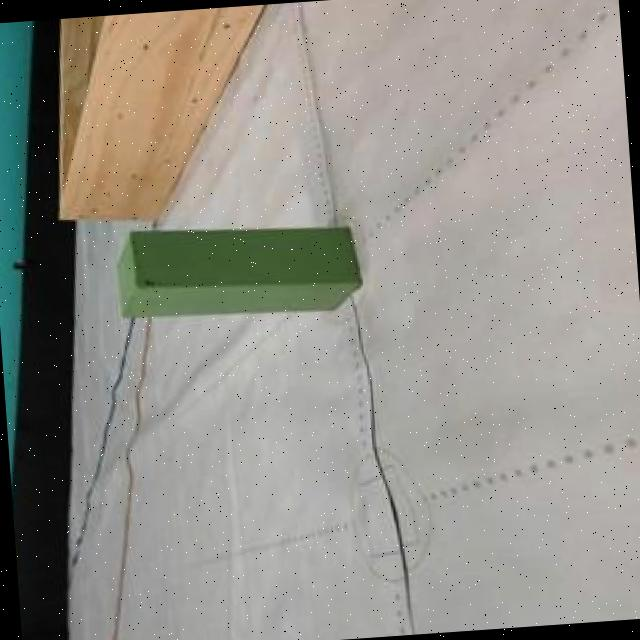greenbox: (110, 214, 368, 326)
